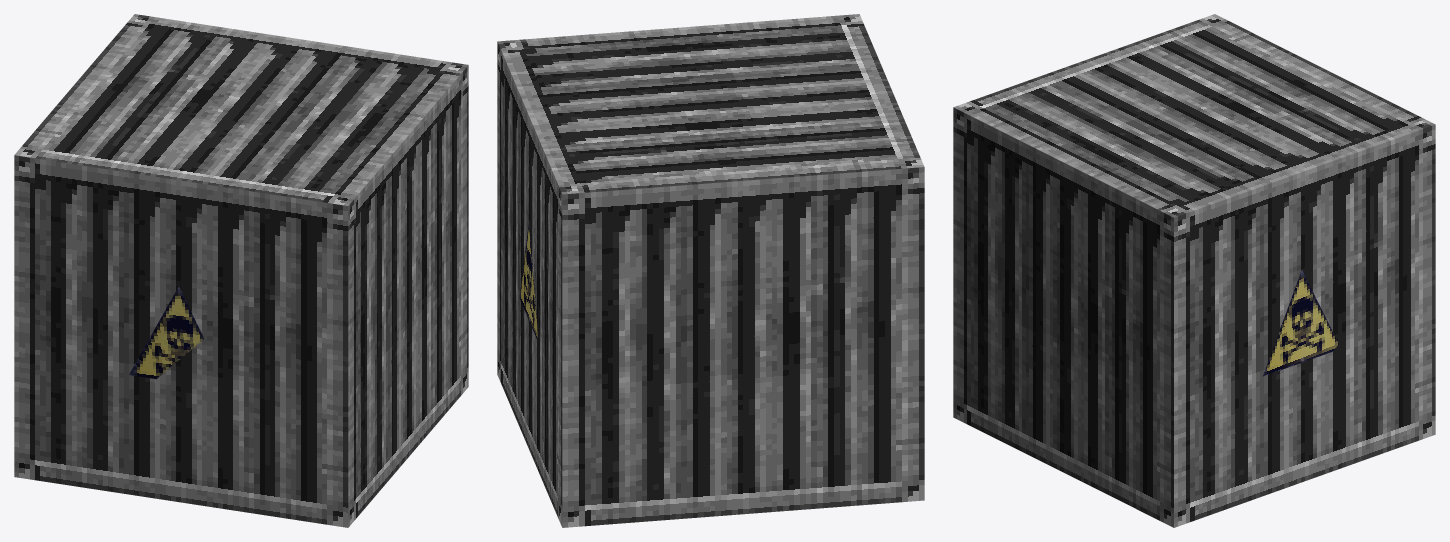
The model's file is primary_062.glb.
3 renders of one model, left to right at view 1: azimuth 30°, elevation 25°; view 2: azimuth 150°, elevation 25°; view 3: azimuth 270°, elevation 25°, orthographic. The views are drawn at different scales.
Visible parts, largest first — view 1: Object; view 2: Object; view 3: Object.
Boxes of the visible parts, x1,y1,x2,y2 form: Object: [14, 14, 468, 527]; Object: [497, 14, 924, 527]; Object: [953, 14, 1435, 527].
Bounding box in the file's own units: 1.3 × 0.9221 × 1.3.
2 materials, 2 textured.
